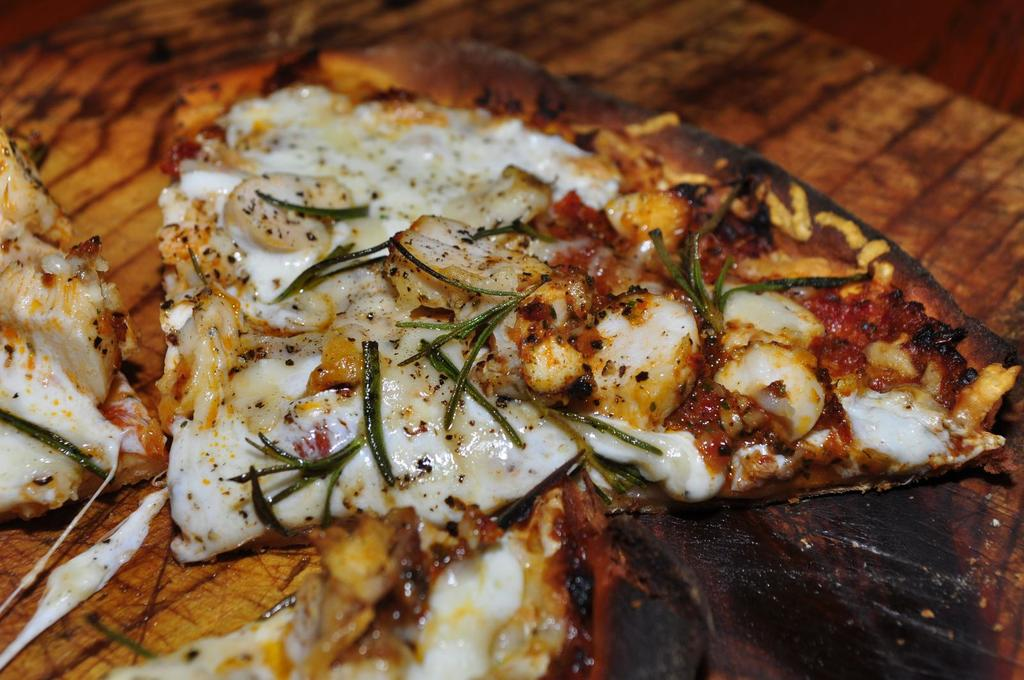Pizza: (76, 60, 1024, 640), (84, 482, 614, 679), (0, 118, 168, 670)
